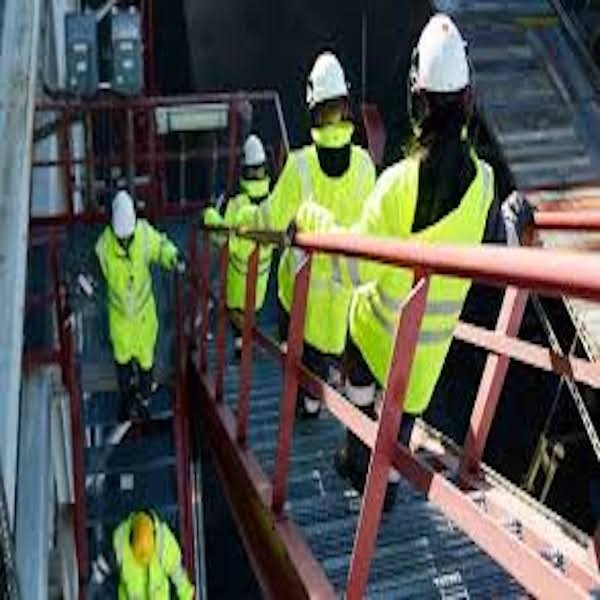helmet: (410, 12, 477, 93), (306, 52, 351, 109), (109, 188, 139, 238), (129, 515, 157, 562), (243, 134, 266, 170)
vest: (354, 154, 494, 392), (283, 144, 372, 354), (97, 230, 166, 360), (224, 184, 275, 311)
